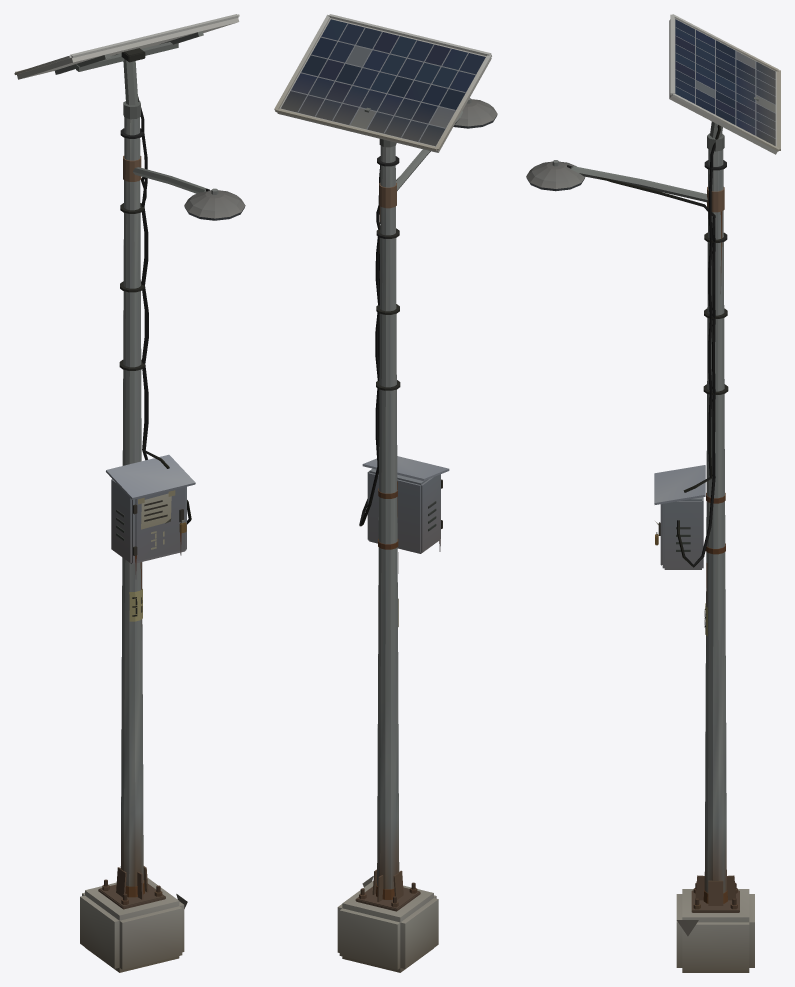
Rendered from lamp_solar_v2_b.glb.
3 views of the same model, side by side, from view 1: azimuth 30°, elevation 25°; view 2: azimuth 150°, elevation 25°; view 3: azimuth 270°, elevation 25° (orthographic). The views are drawn at different scales.
Parts seen in each view (by area): view 1: hb_tin, hb_main; view 2: hb_main, hb_tin; view 3: hb_tin, hb_main.
Boxes of the visible parts, x1,y1,x2,y2 form: hb_tin: [55, 31, 245, 909]; hb_main: [14, 14, 239, 972]; hb_main: [274, 14, 491, 972]; hb_tin: [355, 98, 497, 911]; hb_tin: [526, 97, 758, 912]; hb_main: [654, 14, 780, 972].
Size of the model in its own units: 1.02 by 5.37 by 1.37.
